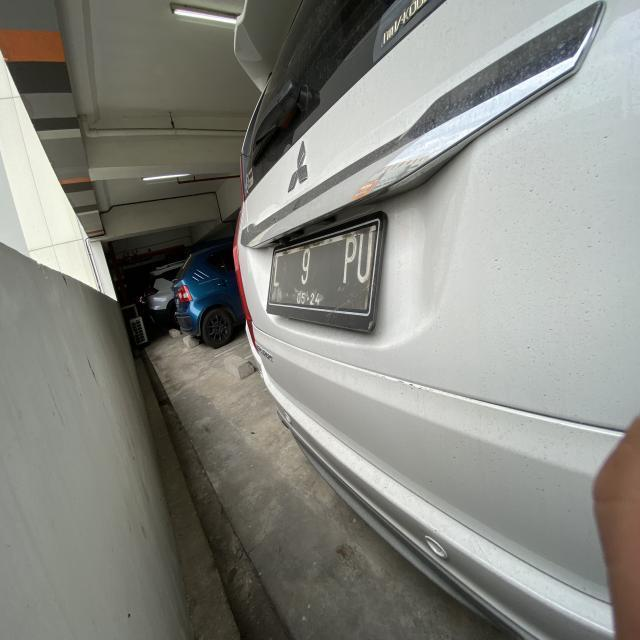9: (301, 246, 312, 286)
L: (273, 254, 284, 290)
P: (344, 234, 356, 283)
U: (356, 231, 374, 281)
